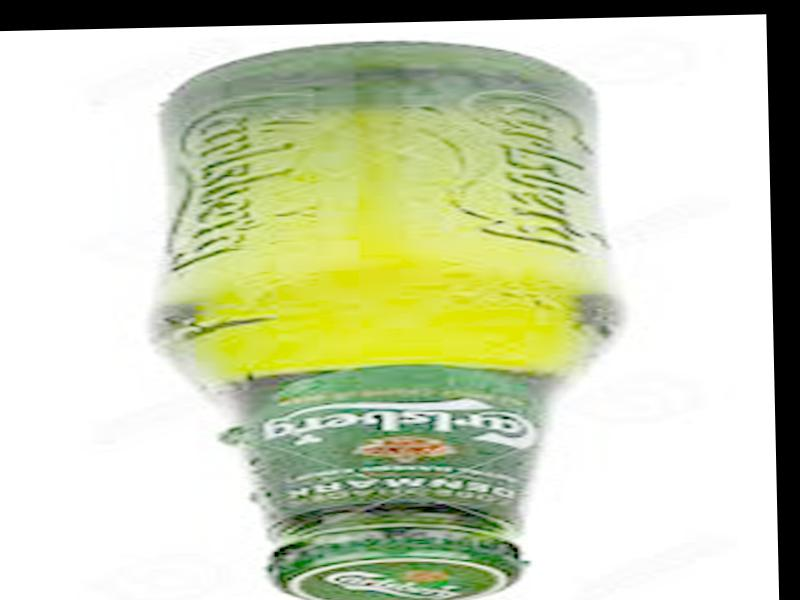Beer: (146, 33, 634, 600)
